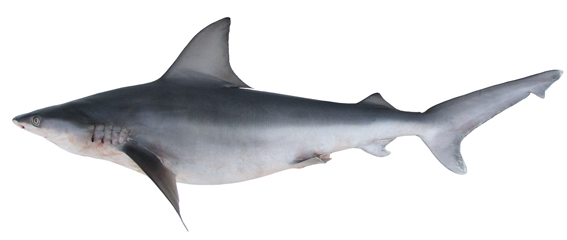fish: (12, 18, 563, 233)
